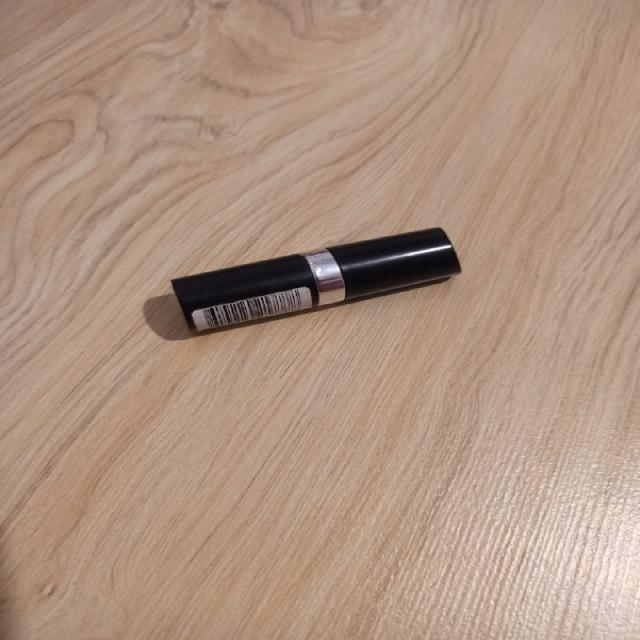lipstick: (169, 225, 462, 332)
